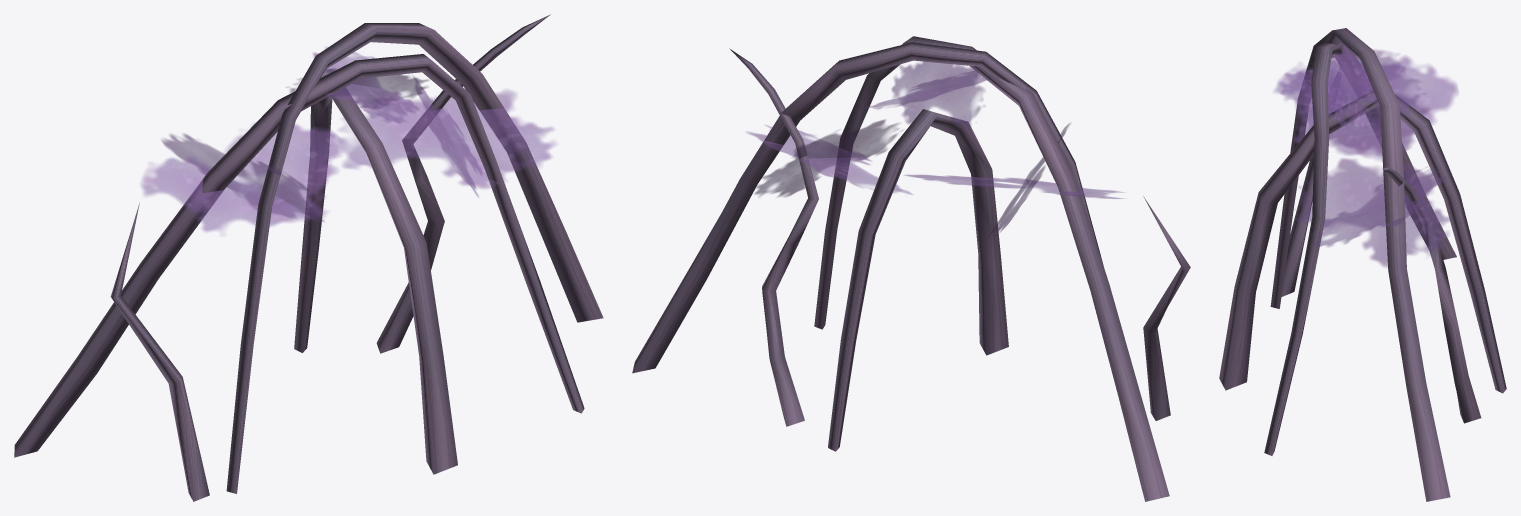
Rendered from gate_spore_a-Bl01rHK1.glb.
3 renders of one model, left to right at view 1: azimuth 30°, elevation 25°; view 2: azimuth 150°, elevation 25°; view 3: azimuth 270°, elevation 25°, orthographic. The views are drawn at different scales.
Visible parts, largest first — view 1: gate_spore_a; view 2: gate_spore_a; view 3: gate_spore_a.
Part boxes in pixels (bbox=[...]): gate_spore_a: bbox=[14, 14, 603, 501]; gate_spore_a: bbox=[632, 36, 1190, 501]; gate_spore_a: bbox=[1219, 28, 1506, 501].
Bounding box in the file's own units: 1.79 × 1.12 × 0.87.
2 materials, 2 textured.
